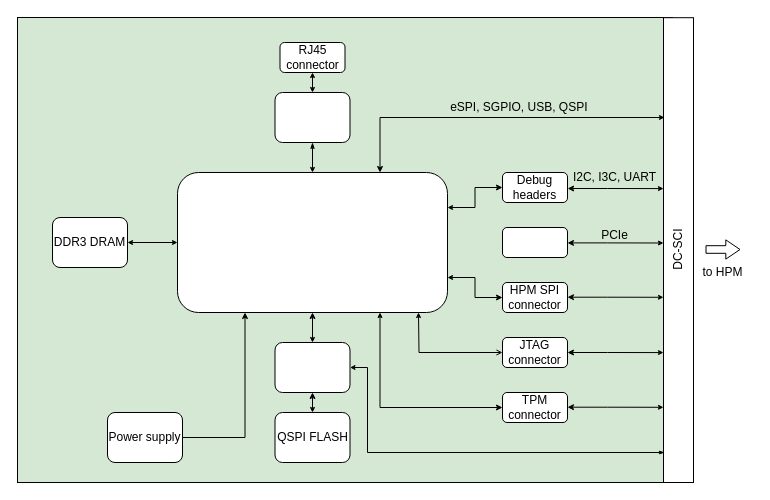
This 770x500 diagram has some shape labels left out. Here are the shapes that lost their labels. From the top down, the centre of each, then its label:
At pixel 312 117: "PHY".
At pixel 312 242: "Artix-7 XC7A100T FPGA".
At pixel 535 242: "M.2 connector".
At pixel 312 367: "RoT".
